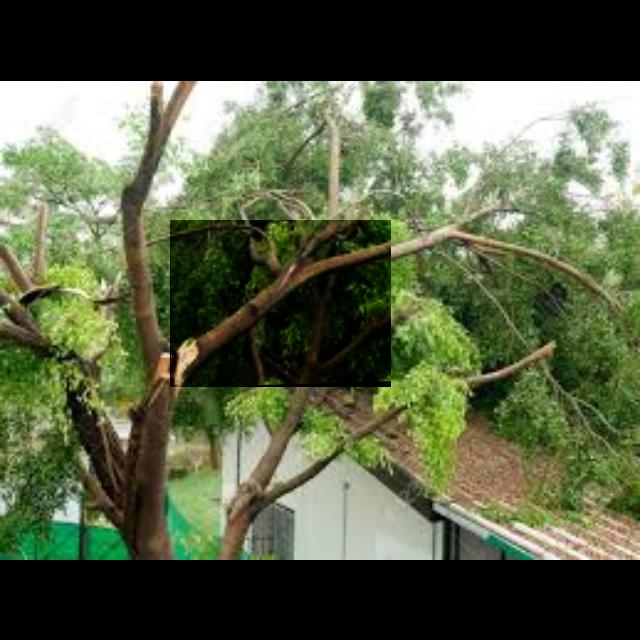Fallen Tree: (170, 220, 392, 388)
